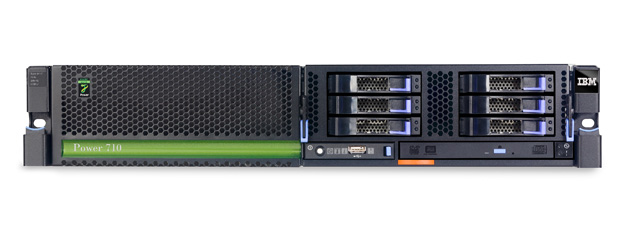ibm-server: (16, 58, 609, 175)
